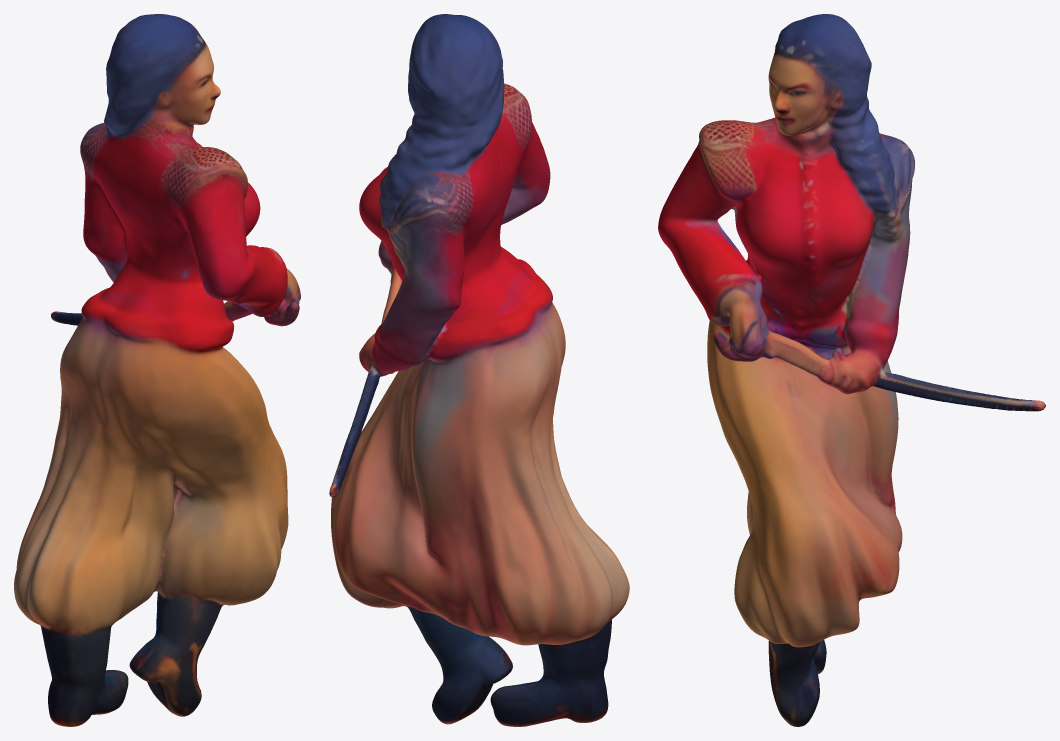
File: juana.gltf
3 renders of one model, left to right at view 1: azimuth 30°, elevation 25°; view 2: azimuth 150°, elevation 25°; view 3: azimuth 270°, elevation 25°, orthographic. The views are drawn at different scales.
Parts seen in each view (by area): view 1: tripo_node_ba4e57e6-4436-4e96-b7ba-cf00bd1167a3; view 2: tripo_node_ba4e57e6-4436-4e96-b7ba-cf00bd1167a3; view 3: tripo_node_ba4e57e6-4436-4e96-b7ba-cf00bd1167a3.
Part boxes in pixels (bbox=[...]): tripo_node_ba4e57e6-4436-4e96-b7ba-cf00bd1167a3: bbox=[14, 14, 300, 726]; tripo_node_ba4e57e6-4436-4e96-b7ba-cf00bd1167a3: bbox=[329, 14, 629, 726]; tripo_node_ba4e57e6-4436-4e96-b7ba-cf00bd1167a3: bbox=[658, 14, 1045, 726].
Bounding box in the file's own units: 10.27 × 25.91 × 13.
1 material, 1 textured.
